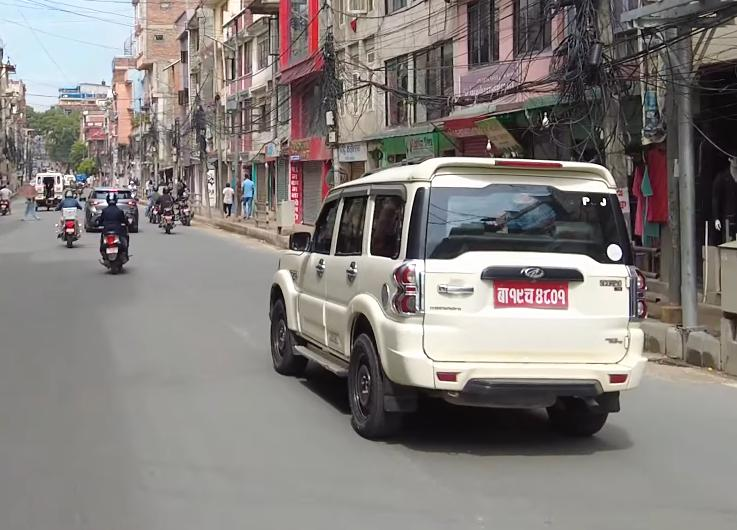SUV: (258, 141, 661, 462)
bike: (96, 225, 134, 277), (58, 212, 81, 250)
tempo: (33, 168, 66, 213)
